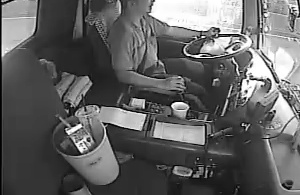cup: (168, 100, 191, 122)
